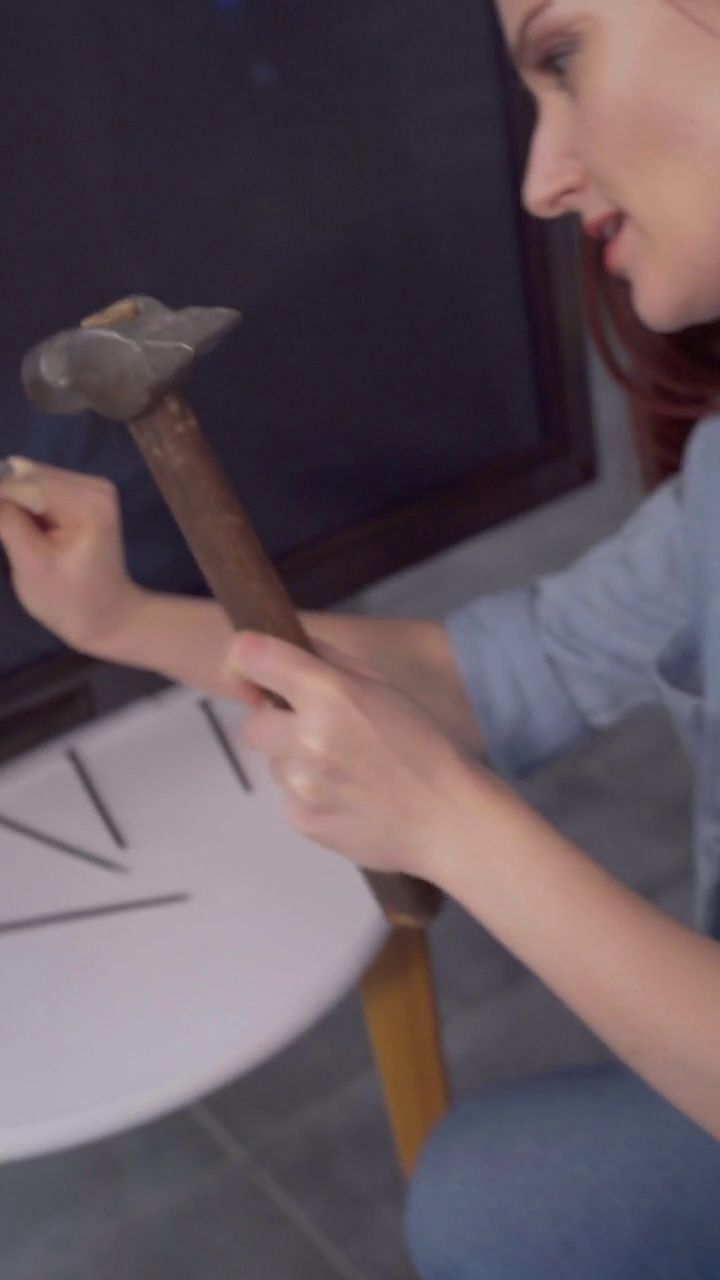hammer: (14, 290, 447, 944)
